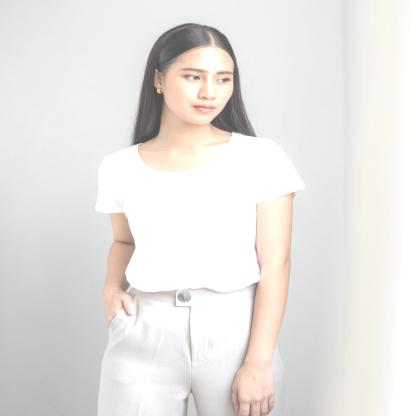dress: (101, 132, 305, 295)
jean: (90, 21, 302, 416)
